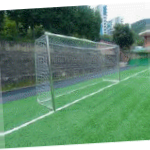goals: (33, 29, 122, 111)
